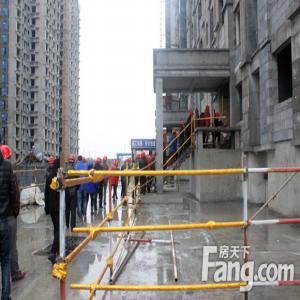none: (78, 155, 84, 165), (150, 150, 153, 157)
red: (1, 144, 13, 167), (69, 155, 76, 167), (49, 157, 55, 168), (97, 157, 102, 166), (104, 156, 108, 164), (114, 161, 118, 168), (141, 152, 145, 159), (173, 129, 177, 136), (190, 111, 194, 118), (196, 110, 200, 116), (207, 106, 210, 113), (216, 113, 220, 118), (183, 122, 186, 128)
